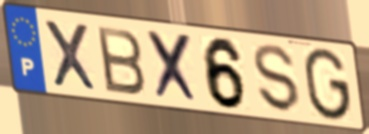6: (201, 35, 251, 112)
B: (93, 24, 148, 98)
G: (302, 45, 354, 123)
S: (252, 42, 303, 116)
X: (41, 17, 101, 95), (144, 27, 202, 106)
